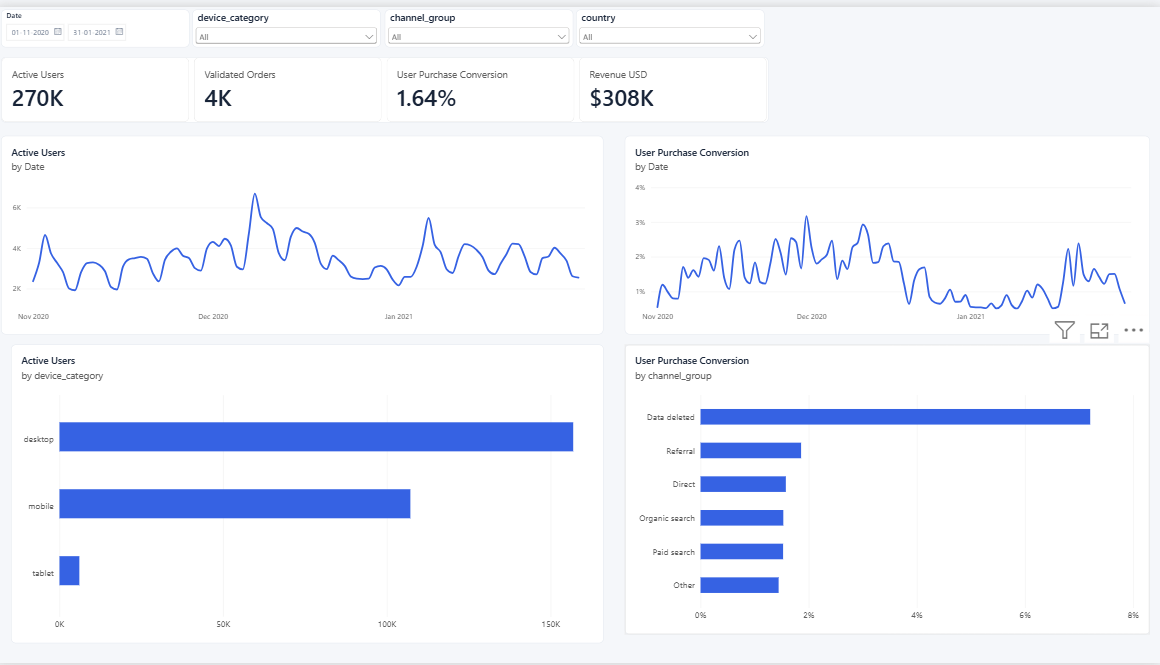

Layout of this report page (visuals, bound fields, positions):
{"tool":"powerbi","page":{"name":"Executive overview","canvas":[1920,1080],"ordinal":0},"visuals":[{"type":"cardVisual","fields":{"Data":["_Measures.Active Users","_Measures.Validated Orders","_Measures.User Purchase Conversion","_Measures.Revenue USD"]},"box":[8,74,1264,108],"z":0},{"type":"lineChart","fields":{"Category":["dim_date.Date"],"Y":["_Measures.Active Users"]},"box":[8,190,628,255],"z":1000},{"type":"lineChart","fields":{"Category":["dim_date.Date"],"Y":["_Measures.User Purchase Conversion"]},"box":[644,190,628,255],"z":2000},{"type":"barChart","fields":{"Category":["dim_user.device_category"],"Y":["_Measures.Active Users"]},"box":[8,455,628,255],"z":3000},{"type":"barChart","fields":{"Category":["dim_user.channel_group"],"Y":["_Measures.User Purchase Conversion"]},"box":[644,455,628,255],"z":4000},{"type":"slicer","fields":{"Values":["dim_date.Date"]},"box":[8,4,310,62],"z":5000},{"type":"slicer","fields":{"Values":["dim_user.device_category"]},"box":[324,4,310,62],"z":6000},{"type":"slicer","fields":{"Values":["dim_user.channel_group"]},"box":[640,4,310,62],"z":7000},{"type":"slicer","fields":{"Values":["dim_user.country"]},"box":[956,4,310,62],"z":8000}]}

Visuals, with their boxes in screenshot pixels (x1, y1, x2, y2), scaled from the page's 1920x1080 canvas onto the 1160x665 screenshot:
cardVisual - _Measures.Active Users x _Measures.Validated Orders: box=[5, 46, 768, 112]
lineChart - dim_date.Date x _Measures.Active Users: box=[5, 117, 384, 274]
lineChart - dim_date.Date x _Measures.User Purchase Conversion: box=[389, 117, 768, 274]
barChart - dim_user.device_category x _Measures.Active Users: box=[5, 280, 384, 437]
barChart - dim_user.channel_group x _Measures.User Purchase Conversion: box=[389, 280, 768, 437]
slicer - dim_date.Date: box=[5, 2, 192, 41]
slicer - dim_user.device_category: box=[196, 2, 383, 41]
slicer - dim_user.channel_group: box=[387, 2, 574, 41]
slicer - dim_user.country: box=[578, 2, 765, 41]
